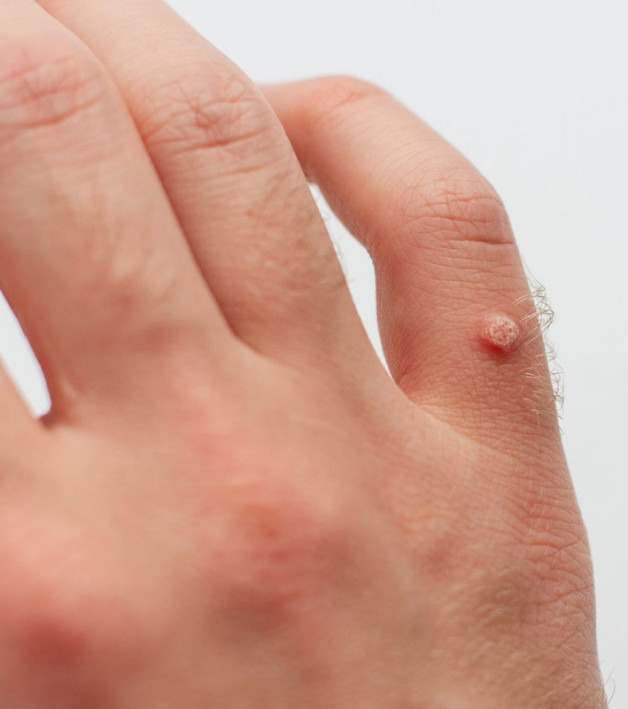Warts: (468, 297, 537, 378)
